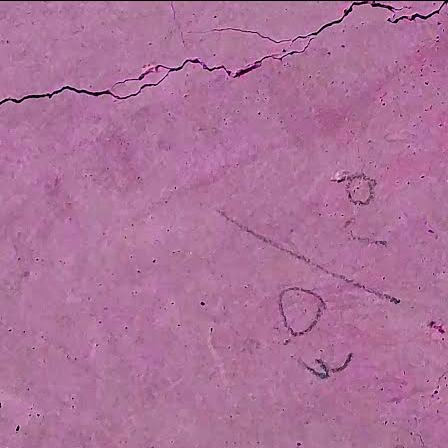crack: (0, 0, 422, 124), (383, 0, 448, 27)
